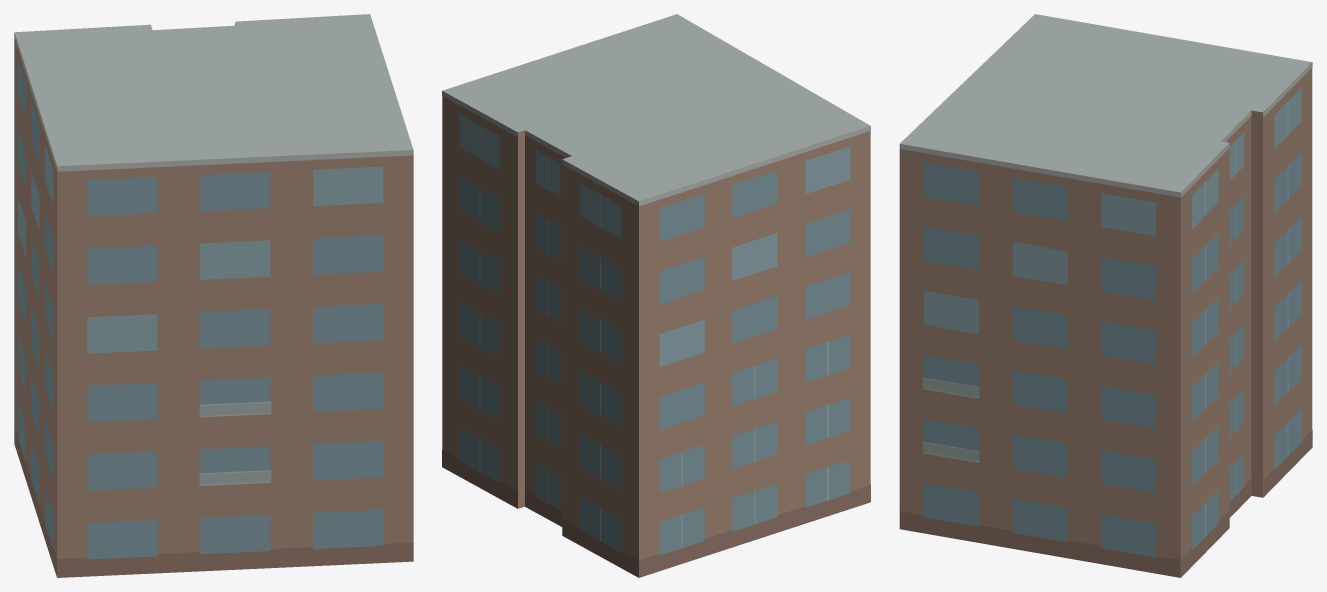
Rendered from survey-upis-32561380.glb.
The picture shows the model from 3 angles, left to right: view 1: azimuth 30°, elevation 25°; view 2: azimuth 150°, elevation 25°; view 3: azimuth 270°, elevation 25°; orthographic projection. The views are drawn at different scales.
Parts seen in each view (by area): view 1: survey-upis-32561380.tmp; view 2: survey-upis-32561380.tmp; view 3: survey-upis-32561380.tmp.
Part boxes in pixels (box(x1,y1,x2,y2)): survey-upis-32561380.tmp: box(14, 14, 413, 577); survey-upis-32561380.tmp: box(442, 14, 870, 577); survey-upis-32561380.tmp: box(899, 14, 1312, 577).
Size of the model in its own units: 18.19 by 18.3 by 17.78.
